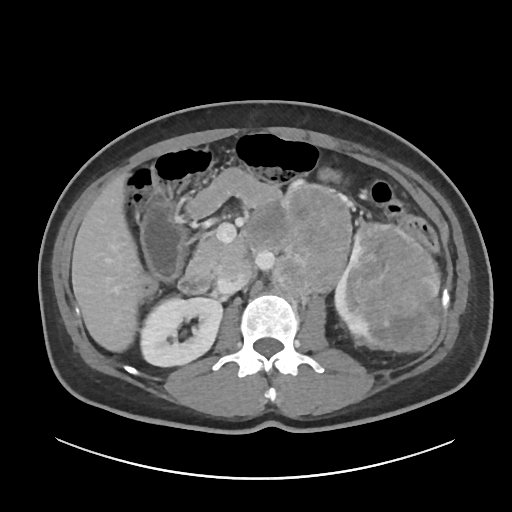Lesion: (342, 222, 439, 322)
